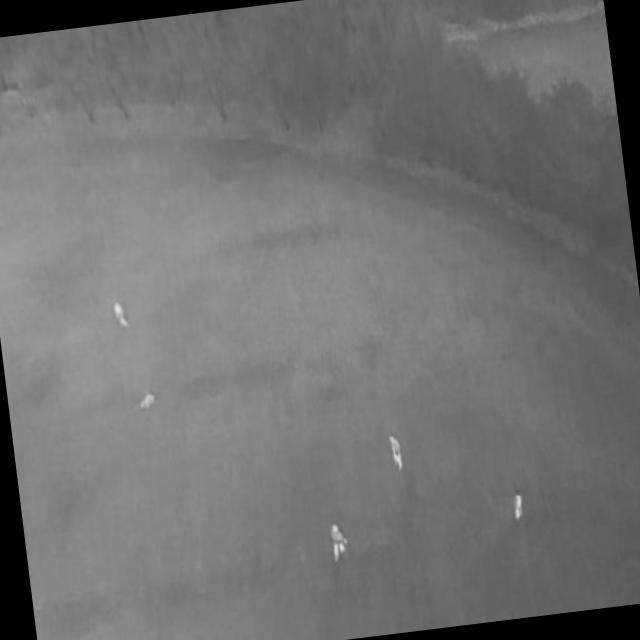person: (329, 523, 350, 565), (388, 434, 404, 474), (113, 300, 132, 330), (510, 491, 527, 521)
